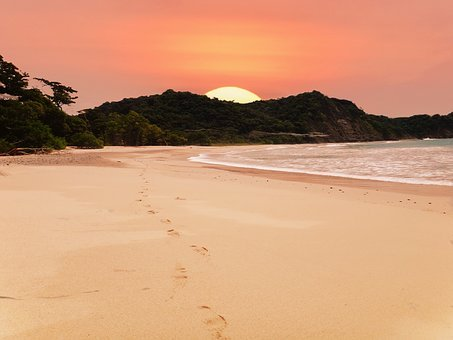beach: (6, 145, 451, 339)
mountain: (9, 95, 450, 135)
sky: (3, 2, 451, 92)
